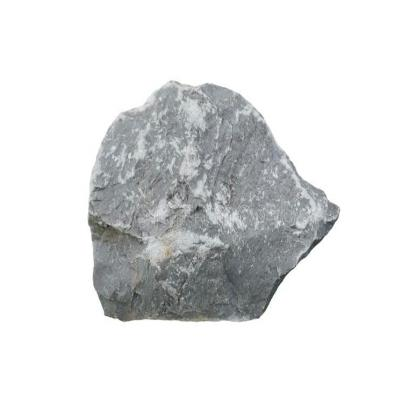Sedimentary_Limestone: (86, 64, 345, 332)
